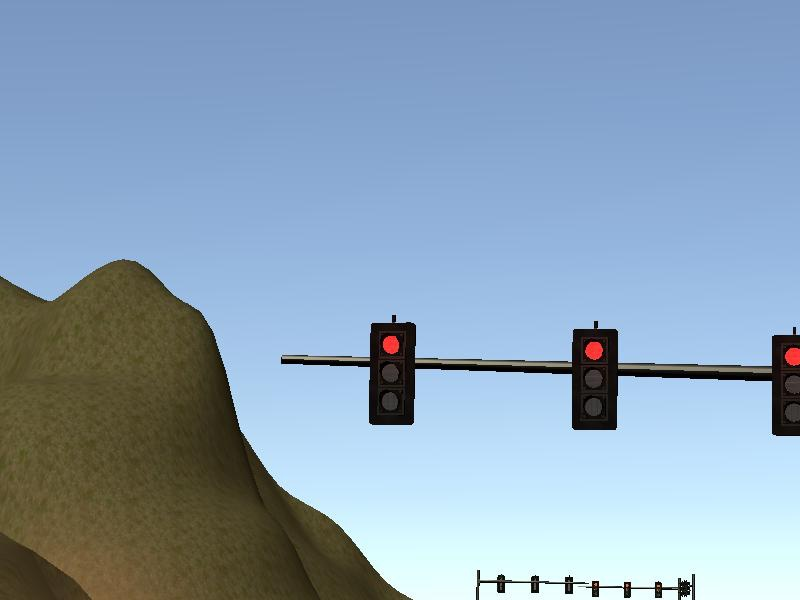red_light: (372, 320, 415, 424), (576, 331, 617, 430), (775, 337, 800, 437)
